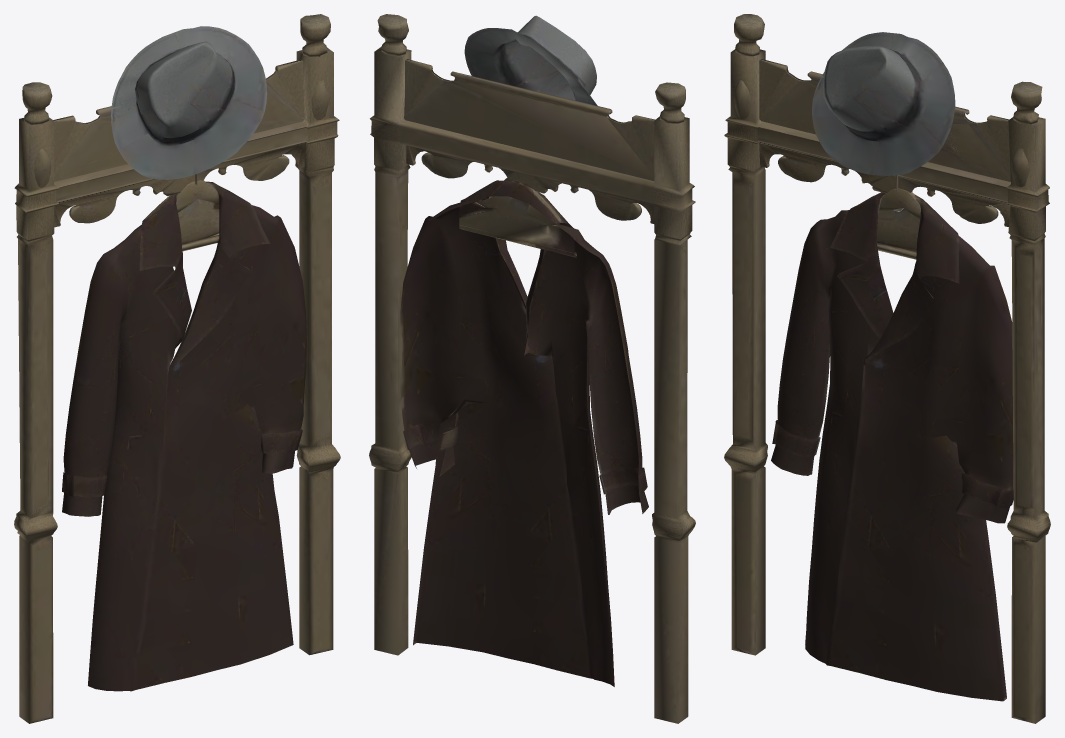
File: coat_rack.glb
The picture shows the model from 3 angles, left to right: view 1: azimuth 30°, elevation 25°; view 2: azimuth 150°, elevation 25°; view 3: azimuth 330°, elevation 25°; orthographic projection.
Size of the model in its own units: 0.4815 by 0.9526 by 0.084.
1 material, 1 textured.
